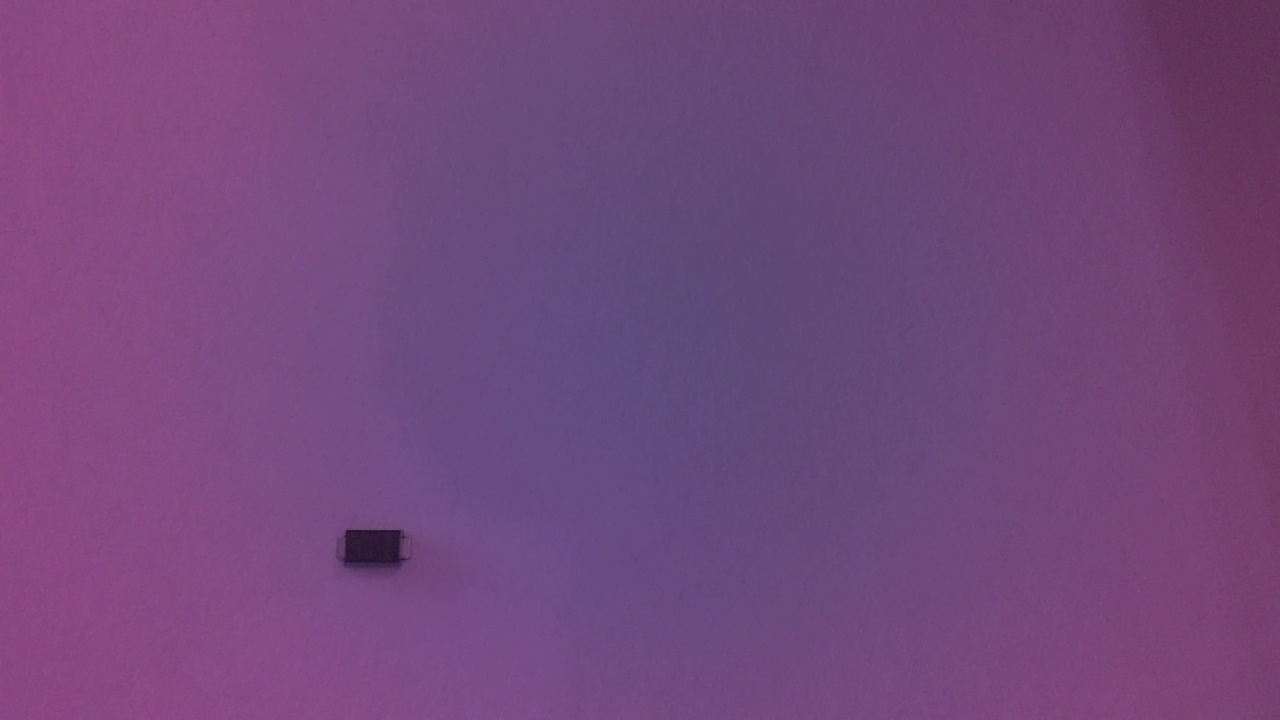Diode: (334, 529, 423, 582)
